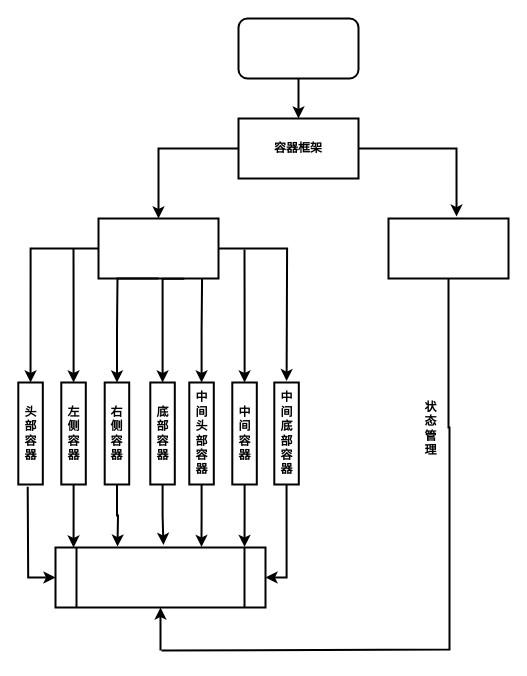
Some shapes in this 527 by 676 pixel diagram are drawn without their labels. Here are the shapes that lost their labels. From the top down, the centre of each, then its label:
At (x=298, y=48): "开始".
At (x=158, y=248): "容器布局".
At (x=448, y=248): "控制中心".
At (x=160, y=577): "控制容器、插件".
